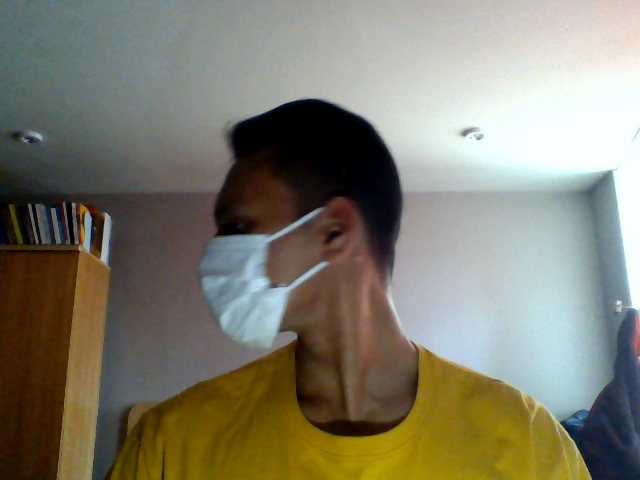mask: (198, 233, 295, 353)
